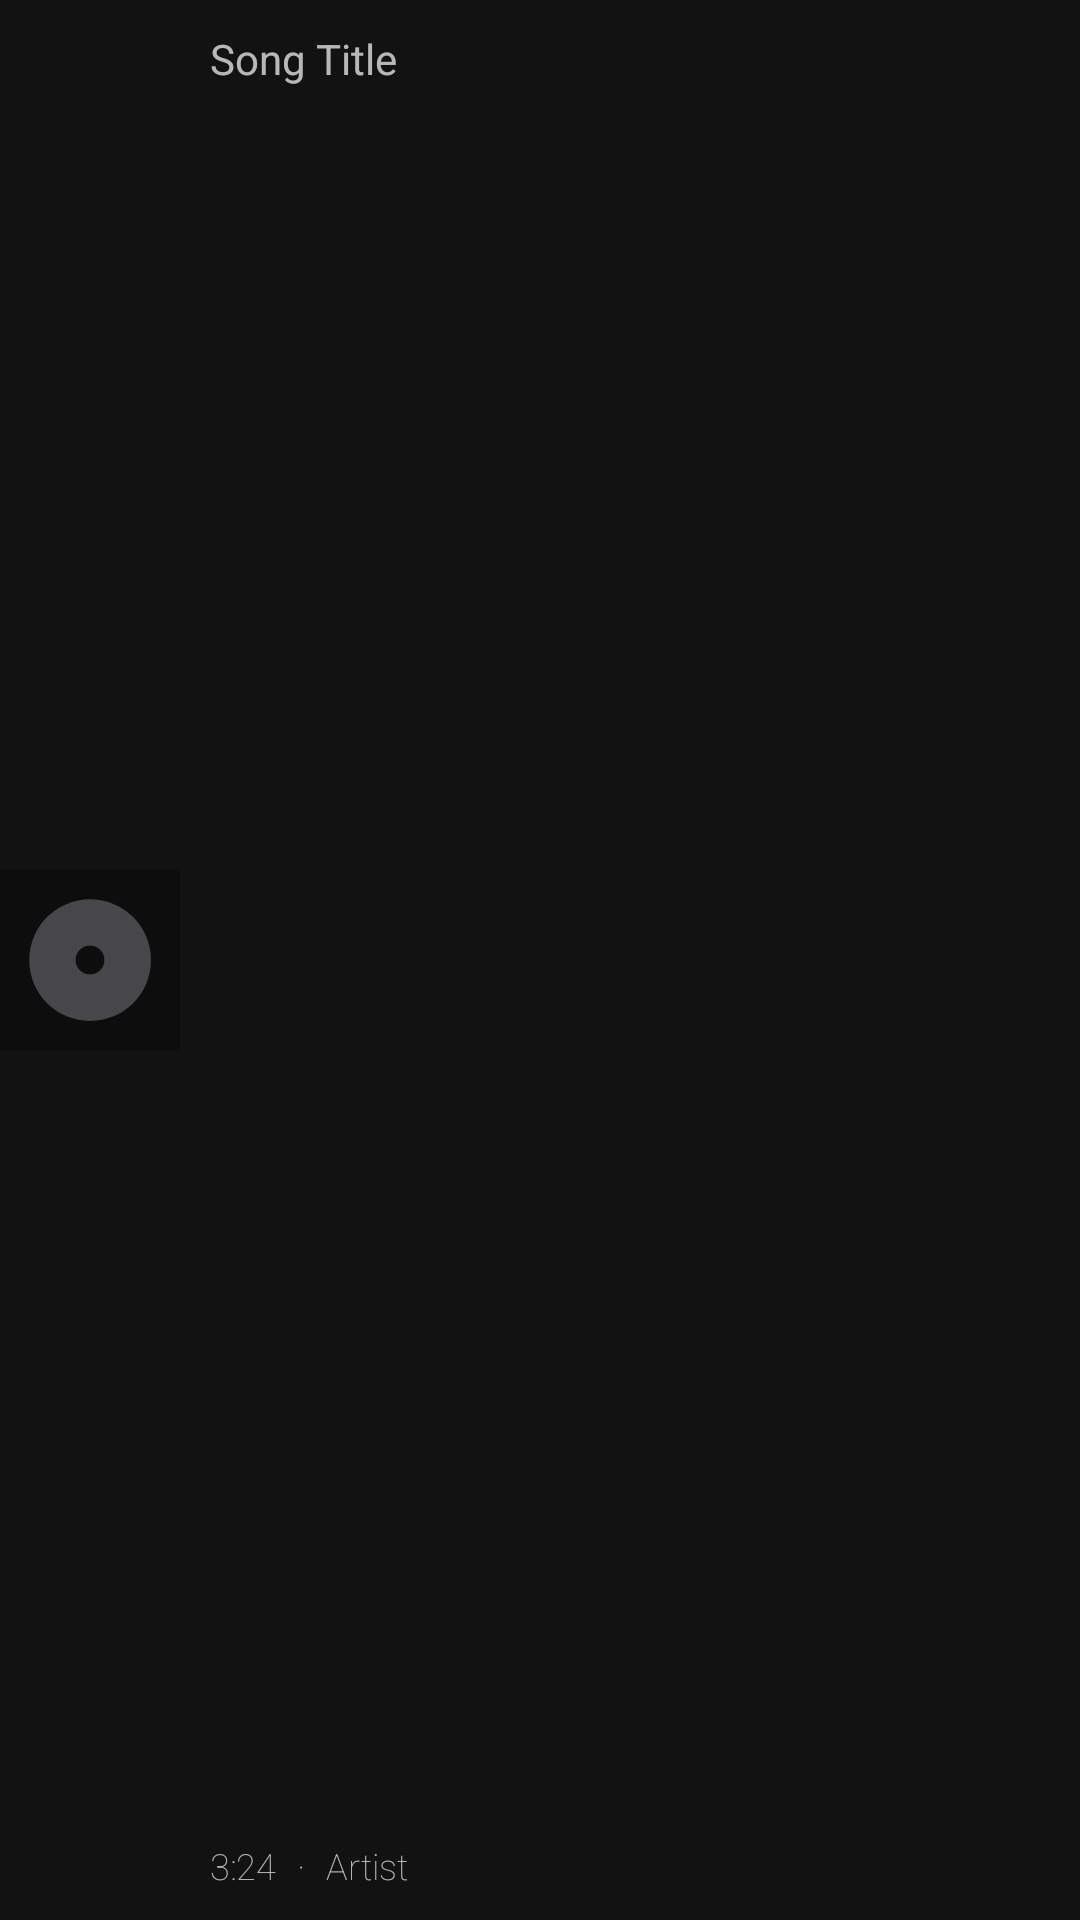

Where icons sit on this 1080 × 1920 app screen, as (x1, y1, x2, y2):
album blank: (29, 899, 151, 1021)
